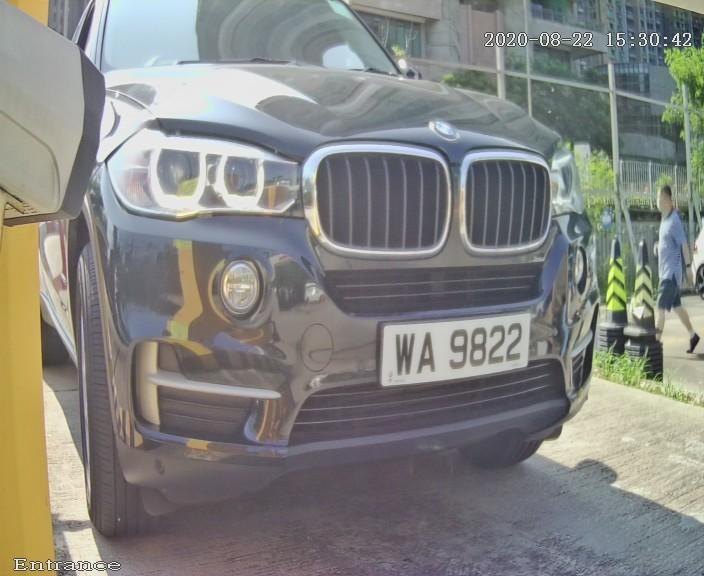License Plate: (371, 299, 535, 394)
